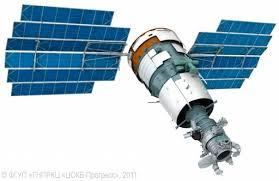antenna: (196, 153, 218, 170)
body: (125, 26, 238, 164)
solar: (1, 2, 135, 99), (184, 16, 279, 91)
